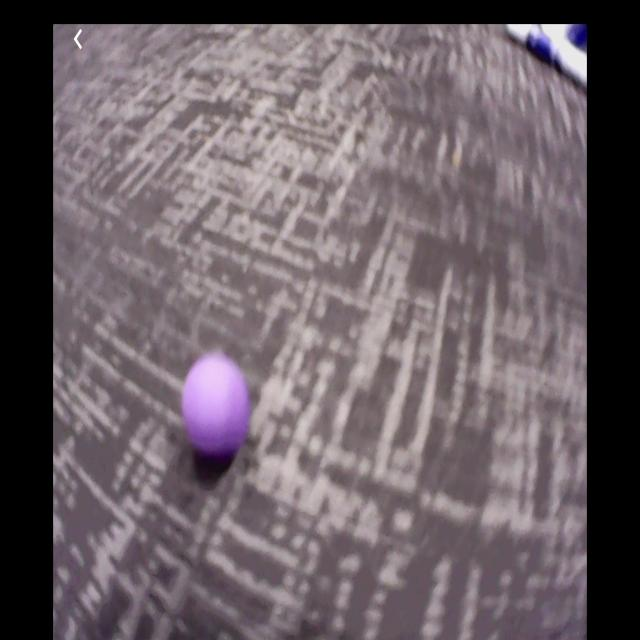ball: (182, 353, 248, 458)
